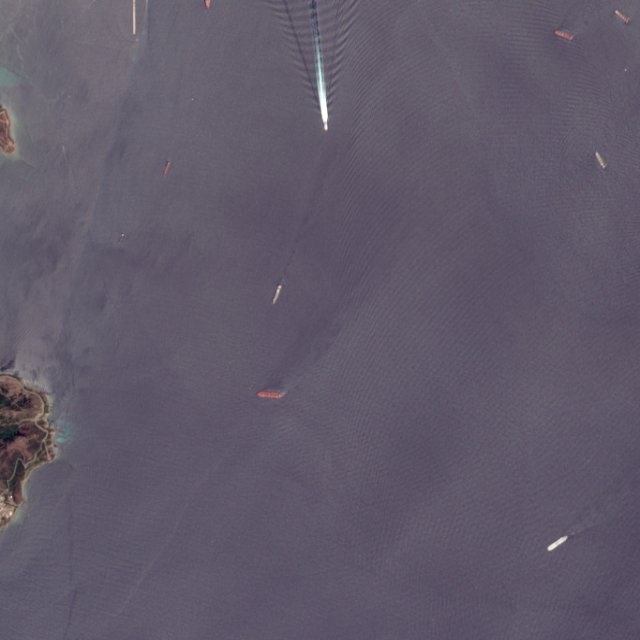wake: (280, 12, 363, 141)
